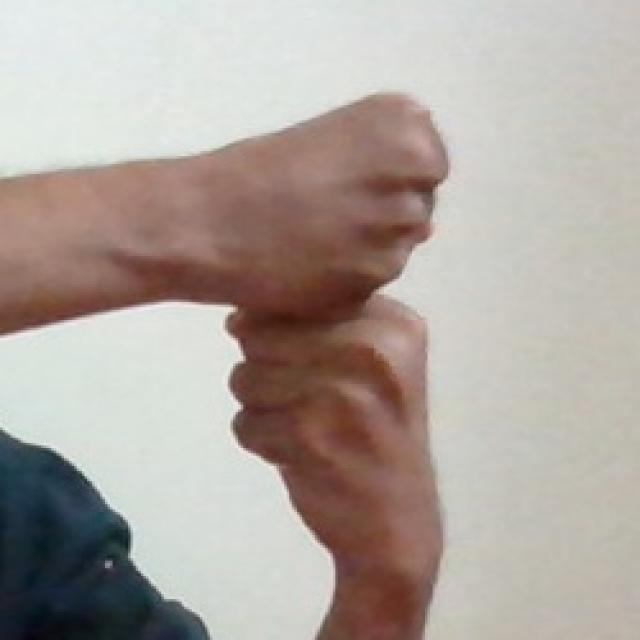Alphabet-g: (222, 58, 478, 607)
